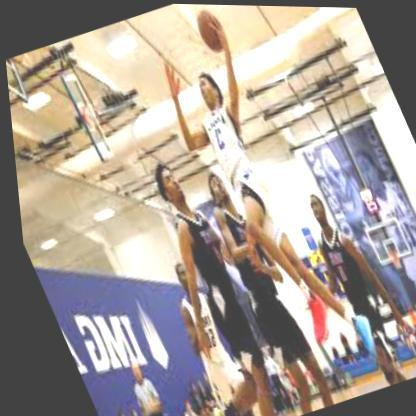basketball: (191, 5, 231, 53)
